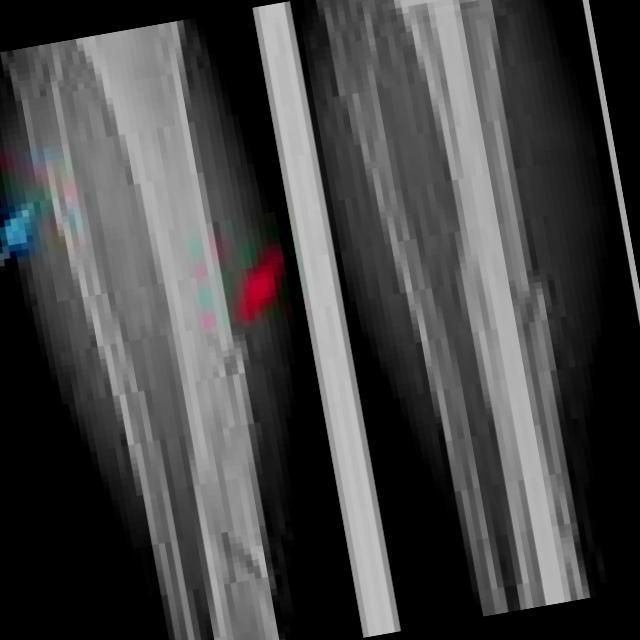spiral fracture: (501, 266, 549, 348), (201, 320, 250, 384)
